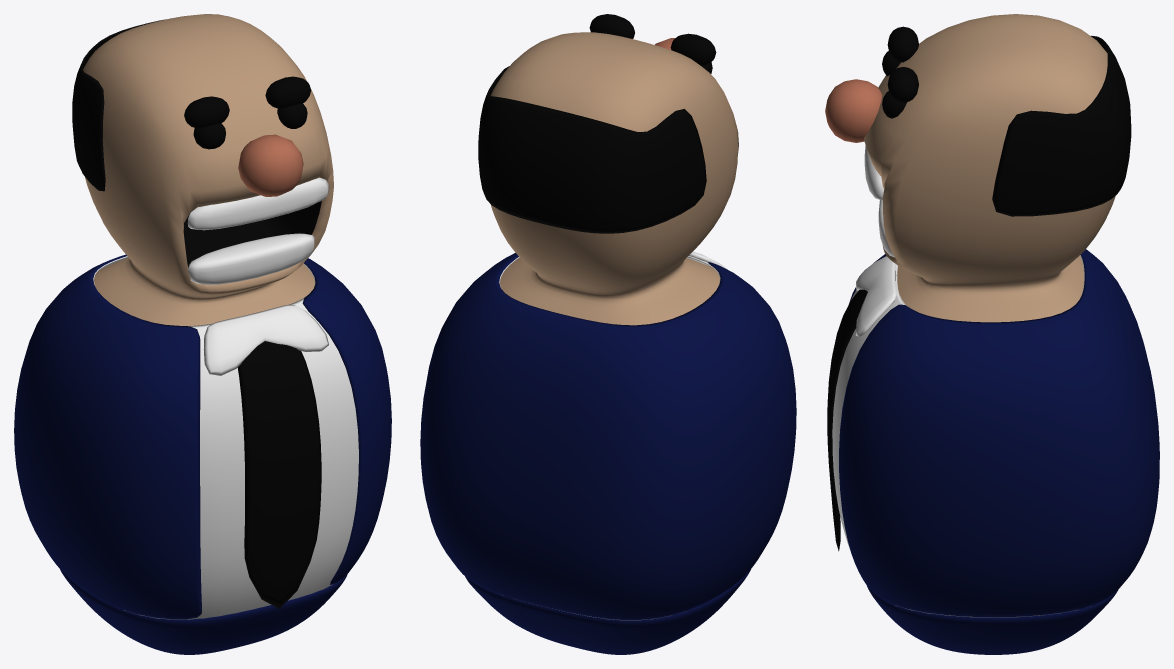
The model's file is BOSS.fbx.
The picture shows the model from 3 angles, left to right: view 1: azimuth 30°, elevation 25°; view 2: azimuth 150°, elevation 25°; view 3: azimuth 270°, elevation 25°; orthographic projection.
Visible parts, largest first — view 1: Cube, LOWER TEETH, UPPER TEETH; view 2: Cube; view 3: Cube, UPPER TEETH.
Part boxes in pixels (x1=…): Cube: x1=14, y1=14, x2=391, y2=654; LOWER TEETH: x1=188, y1=233, x2=314, y2=284; UPPER TEETH: x1=187, y1=177, x2=328, y2=230; Cube: x1=420, y1=14, x2=796, y2=654; Cube: x1=825, y1=14, x2=1159, y2=654; UPPER TEETH: x1=864, y1=145, x2=884, y2=200.
Size of the model in its own units: 370 by 675 by 338.
